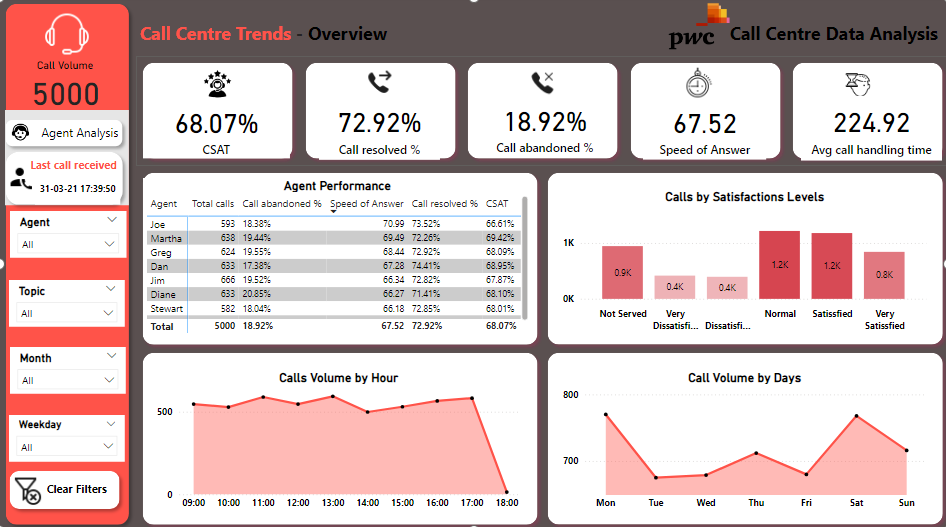

What the dashboard file says about the page in this screenshot:
{"tool":"powerbi","page":{"name":"Call Centre Dashboard","canvas":[1280,720],"ordinal":1},"visuals":[{"type":"group","id":"g1","title":"BG","box":[0,0,1280,720],"z":0},{"type":"shape","box":[0,0,184,720],"z":0,"group":"g1"},{"type":"shape","box":[184,79.9,220,147.2],"z":0,"group":"g2"},{"type":"image","box":[52.1,13.8,78.6,73.7],"z":1000},{"type":"shape","box":[403,79.9,220,147.2],"z":1000,"group":"g2"},{"type":"shape","box":[184,227.1,550,250],"z":1000,"group":"g1"},{"type":"shape","box":[622,79.9,220,147.2],"z":2000,"group":"g2"},{"type":"card","title":"Call Volume","fields":{"Values":["01 Call-Center-Dataset.total calls"]},"box":[25,83.2,126.5,69.9],"z":2000,"group":"g1"},{"type":"card","fields":{"Values":["01 Call-Center-Dataset.call resolved %"]},"box":[434.4,138.2,163.1,78.2],"z":2000},{"type":"textbox","box":[184,26.9,357.3,53],"z":3000,"group":"g1"},{"type":"shape","box":[841,79.9,220,147.2],"z":3000,"group":"g2"},{"type":"card","fields":{"Values":["01 Call-Center-Dataset.call abandoned %"]},"box":[652.5,133.2,166.4,83.2],"z":3000},{"type":"image","box":[897.8,0,91.6,79.9],"z":4000,"group":"g1"},{"type":"shape","box":[1060,79.9,220,147.2],"z":4000,"group":"g2"},{"type":"card","fields":{"Values":["01 Call-Center-Dataset.Avg call handling time"]},"box":[1080.3,133.2,189.8,86.6],"z":4000},{"type":"textbox","box":[967.8,26.9,302.5,53],"z":5000,"group":"g1"},{"type":"card","fields":{"Values":["01 Call-Center-Dataset.CSAT"]},"box":[194.6,137.6,197.6,80.5],"z":5000},{"type":"group","id":"g2","title":"Group 1","box":[184,79.9,1096,147.2],"z":6000,"group":"g1"},{"type":"pivotTable","title":"Agent Performance","fields":{"Rows":["01 Call-Center-Dataset.agent"],"Values":["01 Call-Center-Dataset.total calls","01 Call-Center-Dataset.call abandoned %","01 Call-Center-Dataset.Speed of Answer","01 Call-Center-Dataset.call resolved %","01 Call-Center-Dataset.CSAT"]},"box":[194.6,244.4,523.9,213.7],"z":6000},{"type":"shape","box":[729.7,227.1,550.3,249.6],"z":7000,"group":"g1"},{"type":"lineChart","title":"Calls Volume by Hour","fields":{"Y":["01 Call-Center-Dataset.total calls"],"Category":["01 Call-Center-Dataset.Hour"]},"box":[207.8,502,500.5,197.6],"z":7000},{"type":"shape","box":[184,470,550,250],"z":8000,"group":"g1"},{"type":"lineChart","title":"Call Volume by Days","fields":{"Y":["01 Call-Center-Dataset.total calls"],"Category":["01 Call-Center-Dataset.Day Name"]},"box":[755.1,502,500.5,197.6],"z":8000},{"type":"clusteredColumnChart","title":"Calls by Satisfactions Levels","fields":{"Y":["01 Call-Center-Dataset.total calls"],"Category":["01 Call-Center-Dataset.Satisfactions levels"]},"box":[755.1,259,500.5,199],"z":9000},{"type":"shape","box":[729.7,470.4,550.3,249.6],"z":9000,"group":"g1"},{"type":"shape","box":[7.9,152.3,167,128.7],"z":10000,"group":"g1"},{"type":"card","fields":{"Values":["01 Call-Center-Dataset.Last Call"]},"box":[48.3,239.7,114.9,39.9],"z":10000},{"type":"shape","box":[0,199,175.6,89.3],"z":11000,"group":"g1"},{"type":"slicer","fields":{"Values":["01 Call-Center-Dataset.agent"]},"box":[14.6,288.3,156.6,62.9],"z":11000},{"type":"shape","box":[0,156.2,175.1,53.9],"z":12000,"group":"g1"},{"type":"slicer","fields":{"Values":["01 Call-Center-Dataset.topic"]},"box":[13.3,381.2,156.5,63.3],"z":12000},{"type":"slicer","fields":{"Values":["01 Call-Center-Dataset.Month YY"]},"box":[15,471.1,156.5,63.3],"z":13000},{"type":"shape","box":[5.3,628.9,165.9,69.8],"z":13000,"group":"g1"},{"type":"slicer","fields":{"Values":["01 Call-Center-Dataset.Day Name"]},"box":[13.3,562.6,156.5,63.3],"z":14000},{"type":"image","box":[7.4,637.4,57.1,51.8],"z":14000,"group":"g1"},{"type":"card","fields":{"Values":["01 Call-Center-Dataset.Speed of Answer"]},"box":[867.2,136.5,166.4,83.2],"z":15000},{"type":"textbox","box":[58.8,646.5,105.6,34.8],"z":15000,"group":"g1"},{"type":"textbox","box":[9.9,210.1,154.4,32.3],"z":16000,"group":"g1"},{"type":"image","box":[5.4,220.8,45.8,43.1],"z":17000,"group":"g1"},{"type":"textbox","box":[9.8,167,156.2,32.4],"z":18000,"group":"g1"},{"type":"image","title":"Agent","box":[8.8,166,39.3,33.4],"z":19000,"group":"g1"},{"type":"image","box":[262.5,90.5,62.5,53.4],"z":20000,"group":"g1"},{"type":"image","box":[482.5,89.6,58.8,48.9],"z":21000,"group":"g1"},{"type":"image","box":[708.3,94.1,46.2,43.2],"z":22000,"group":"g1"},{"type":"image","box":[917.5,90.4,50.1,50.1],"z":23000,"group":"g1"},{"type":"image","box":[1135.2,95,42.5,46.2],"z":24000,"group":"g1"}]}

Visuals, with their boxes in screenshot pixels (x1, y1, x2, y2), scaled from the page's 1280x720 canvas onto the 946x527 screenshot:
"BG" group: [0,0,945,526]
shape: [0,0,136,526]
shape: [136,58,299,166]
image: [39,10,97,64]
shape: [298,58,460,166]
shape: [136,166,542,349]
shape: [460,58,622,166]
"Call Volume" card: [18,61,112,112]
card - 01 Call-Center-Dataset.call resolved %: [321,101,442,158]
textbox: [136,20,400,58]
shape: [622,58,784,166]
card - 01 Call-Center-Dataset.call abandoned %: [482,97,605,158]
image: [664,0,731,58]
shape: [783,58,945,166]
card - 01 Call-Center-Dataset.Avg call handling time: [798,97,939,161]
textbox: [715,20,939,58]
card - 01 Call-Center-Dataset.CSAT: [144,101,290,160]
"Group 1" group: [136,58,945,166]
"Agent Performance" pivotTable: [144,179,531,335]
shape: [539,166,945,349]
"Calls Volume by Hour" lineChart: [154,367,523,512]
shape: [136,344,542,526]
"Call Volume by Days" lineChart: [558,367,928,512]
"Calls by Satisfactions Levels" clusteredColumnChart: [558,190,928,335]
shape: [539,344,945,526]
shape: [6,111,129,206]
card - 01 Call-Center-Dataset.Last Call: [36,175,121,205]
shape: [0,146,130,211]
slicer - 01 Call-Center-Dataset.agent: [11,211,127,257]
shape: [0,114,129,154]
slicer - 01 Call-Center-Dataset.topic: [10,279,125,325]
slicer - 01 Call-Center-Dataset.Month YY: [11,345,127,391]
shape: [4,460,127,511]
slicer - 01 Call-Center-Dataset.Day Name: [10,412,125,458]
image: [5,467,48,504]
card - 01 Call-Center-Dataset.Speed of Answer: [641,100,764,161]
textbox: [43,473,122,499]
textbox: [7,154,121,177]
image: [4,162,38,193]
textbox: [7,122,123,146]
"Agent" image: [7,122,36,146]
image: [194,66,240,105]
image: [357,66,400,101]
image: [523,69,558,100]
image: [678,66,715,103]
image: [839,70,870,103]
